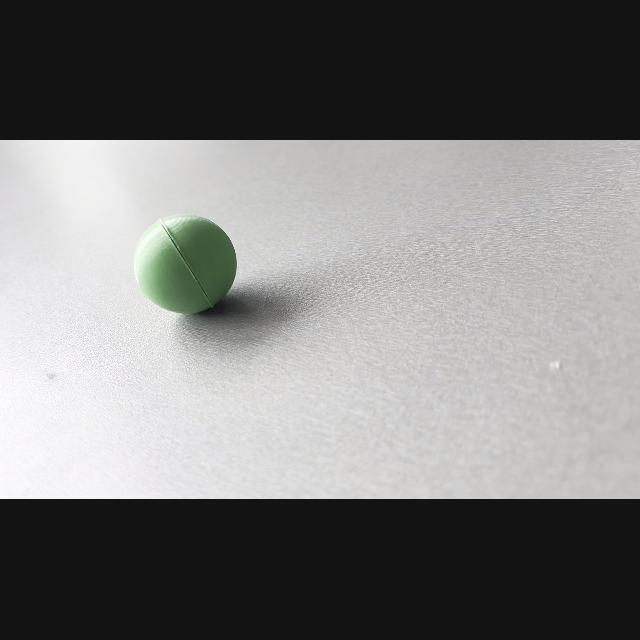objects: (128, 207, 244, 319)
